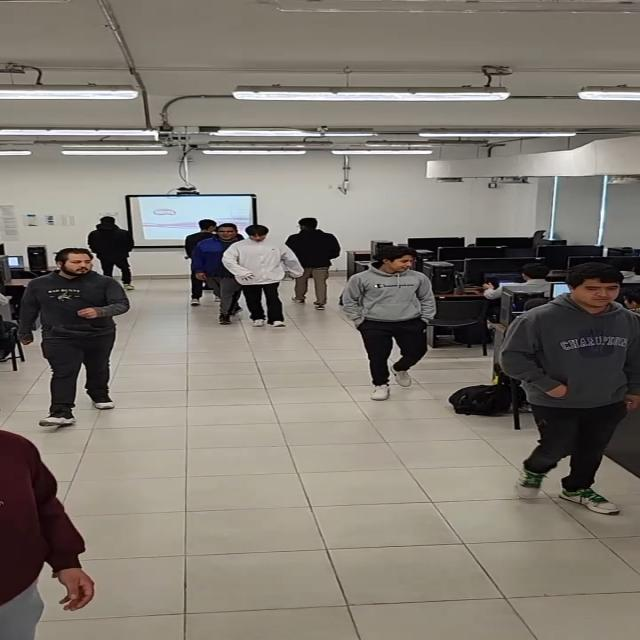Persona: (498, 266, 640, 520), (20, 248, 121, 426), (347, 247, 431, 400), (228, 224, 286, 329), (293, 216, 333, 312), (196, 225, 238, 308), (86, 216, 135, 275)
